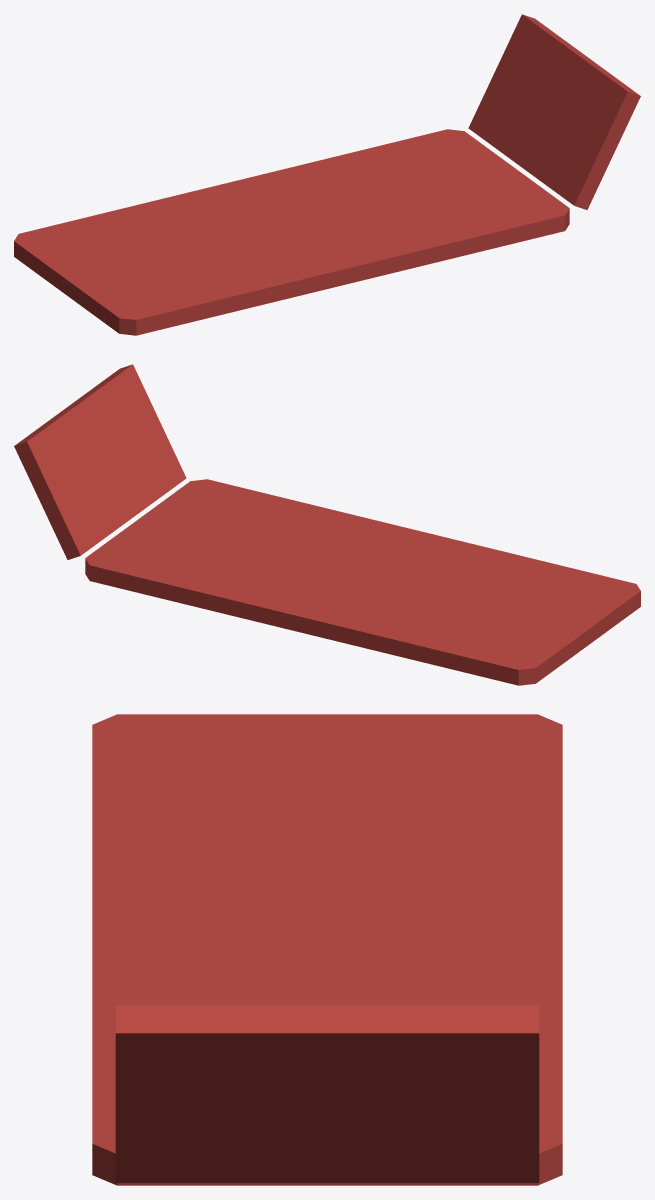
File: skid_lod2.glb
The picture shows the model from 3 angles, top to bottom: view 1: azimuth 30°, elevation 25°; view 2: azimuth 150°, elevation 25°; view 3: azimuth 270°, elevation 25°; orthographic projection. The views are drawn at different scales.
Visible parts, largest first — view 1: skid_lod2; view 2: skid_lod2; view 3: skid_lod2.
Part boxes in pixels (x1,y1,x2,y2): skid_lod2: (14,14,640,335); skid_lod2: (14,364,640,685); skid_lod2: (92,714,562,1185).
Bounding box in the file's own units: 0.4861 × 0.1054 × 0.19.
